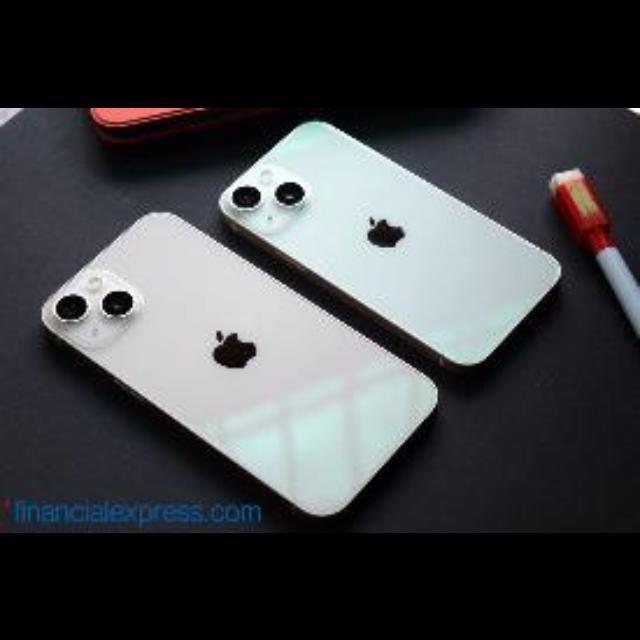phone: (46, 86, 620, 414), (21, 157, 473, 515)
